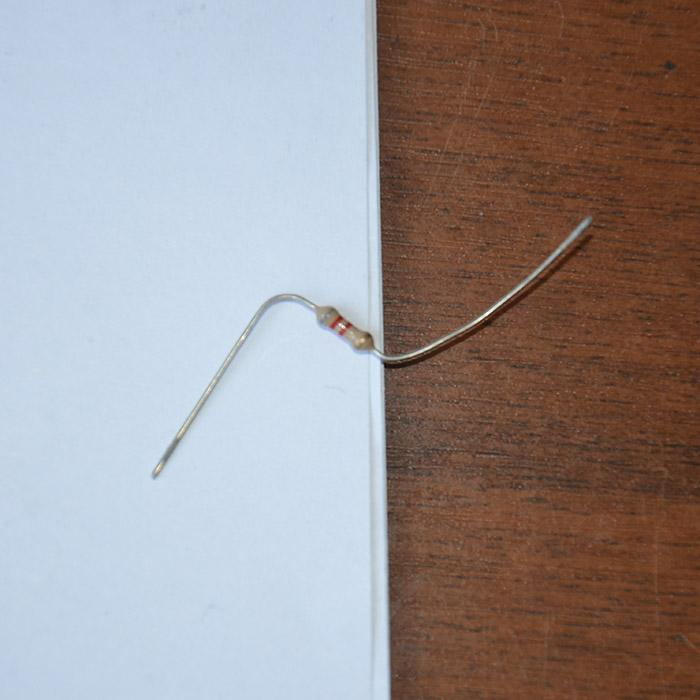resistor: (316, 304, 373, 351)
